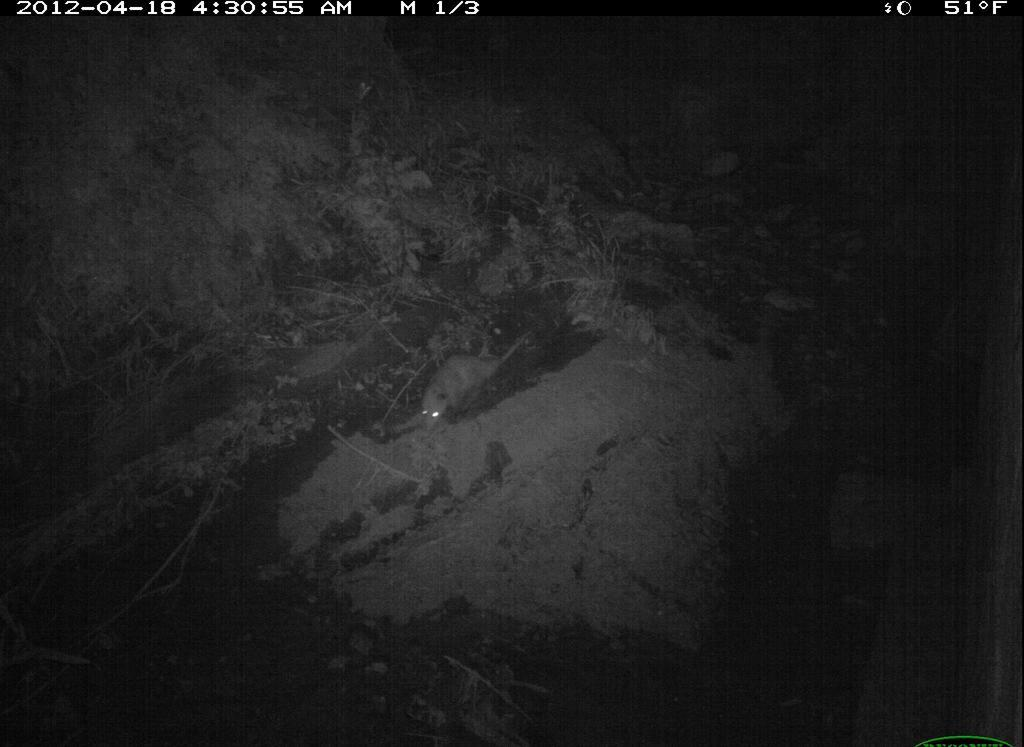opossum: (414, 323, 541, 437)
